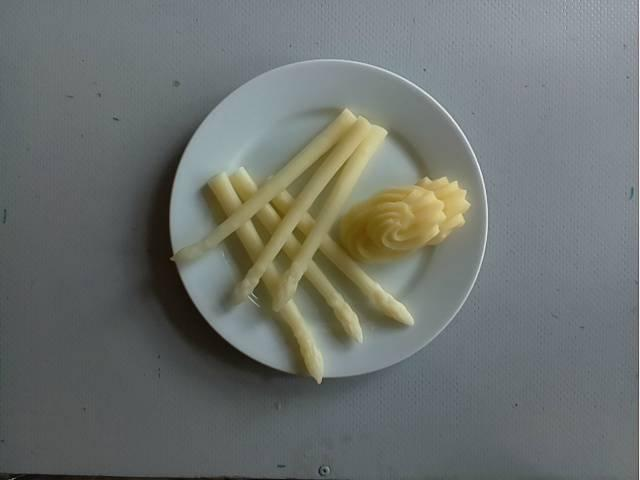Asparagus + mashed potatoes: (167, 104, 472, 385)
